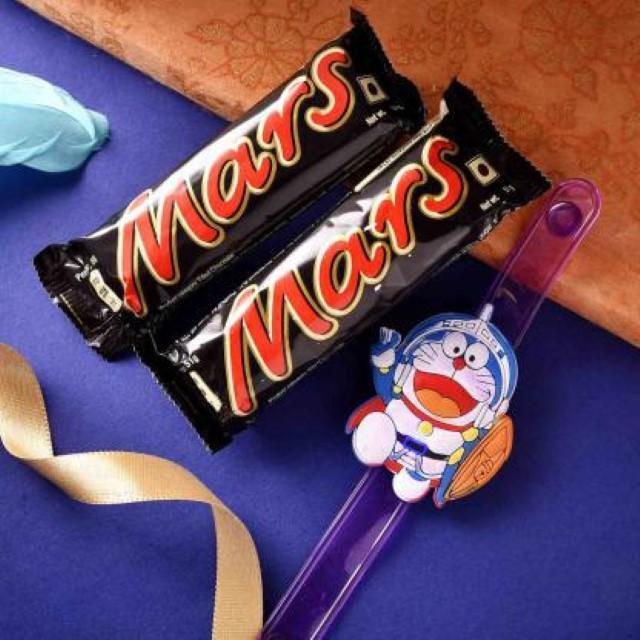mars_chocolate: (210, 82, 535, 410), (75, 22, 395, 333)
